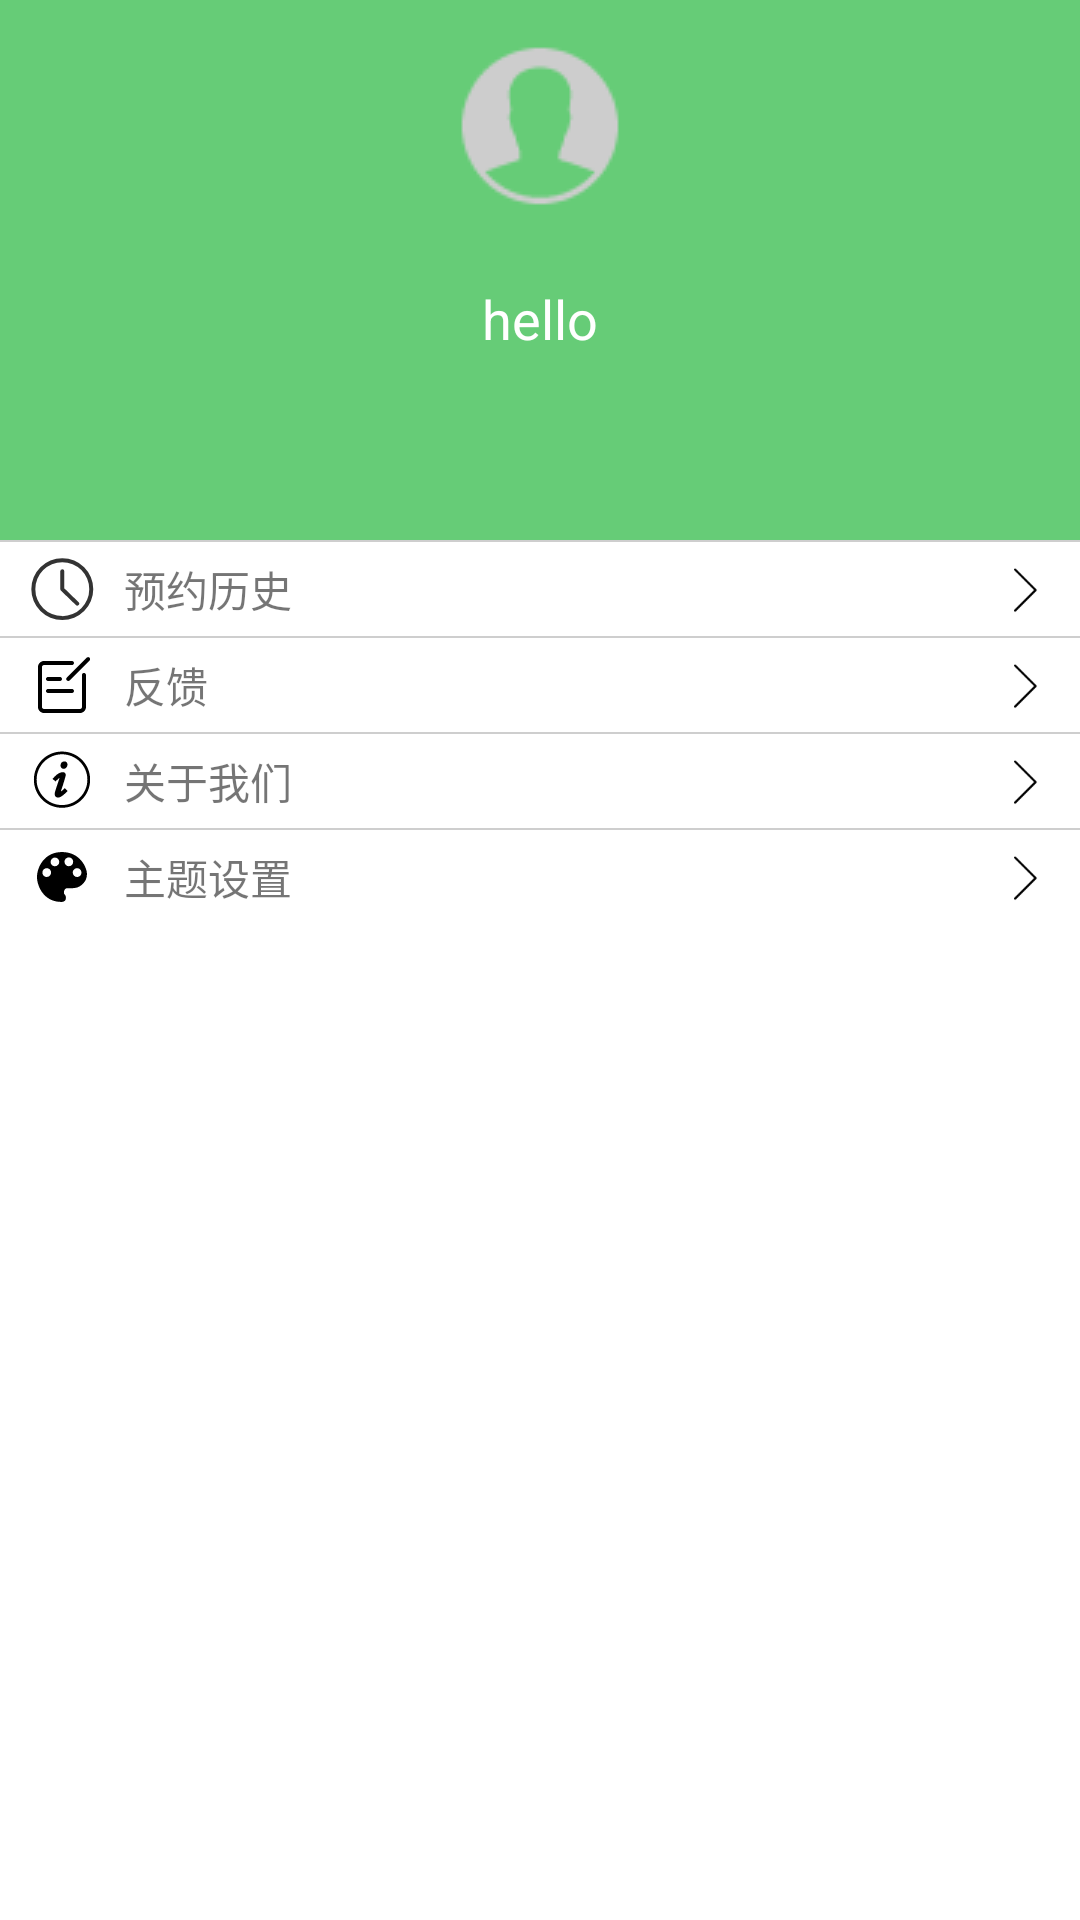

Locate icon controls on the screen. Image size 1080×1920, boxes as box(x1, y1, x2, y2).
head: box(461, 47, 619, 205)
